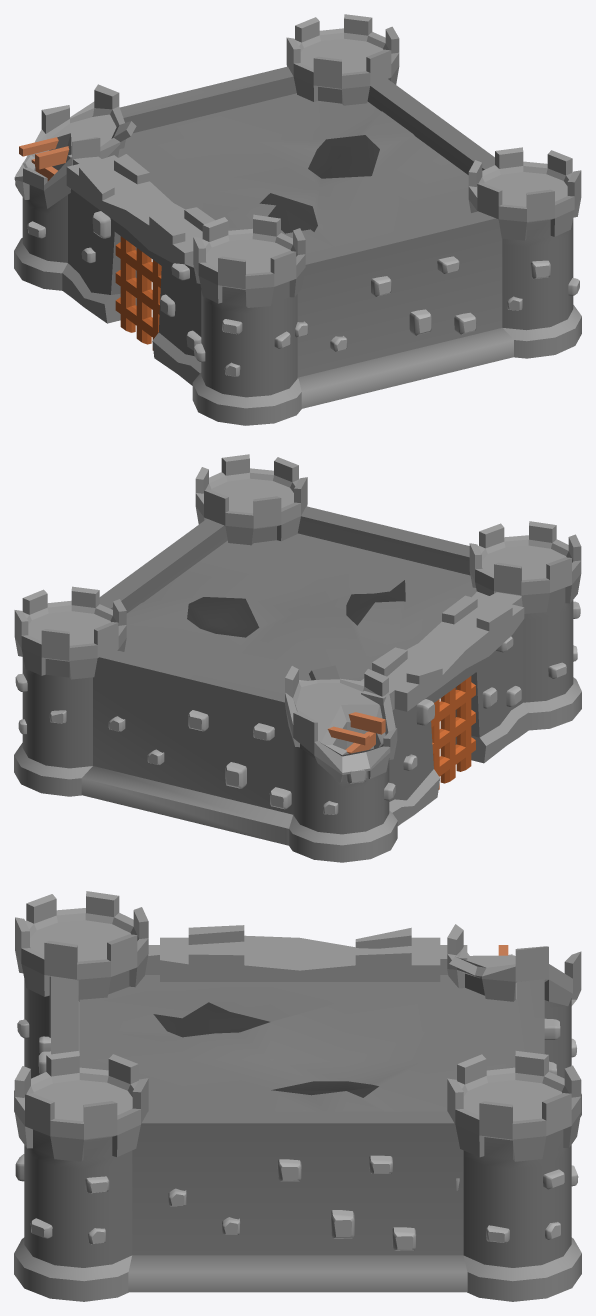
The model's file is Castle_2.fbx.
3 views of the same model, one above another, from view 1: azimuth 30°, elevation 25°; view 2: azimuth 150°, elevation 25°; view 3: azimuth 270°, elevation 25° (orthographic). The views are drawn at different scales.
Visible parts, largest first — view 1: polySurface215; view 2: polySurface215; view 3: polySurface215.
Part boxes in pixels (box(x1,y1,x2,y2)): polySurface215: box(14, 14, 581, 425); polySurface215: box(14, 454, 581, 862); polySurface215: box(14, 891, 581, 1301).
Size of the model in its own units: 3159 by 1345 by 3494.
